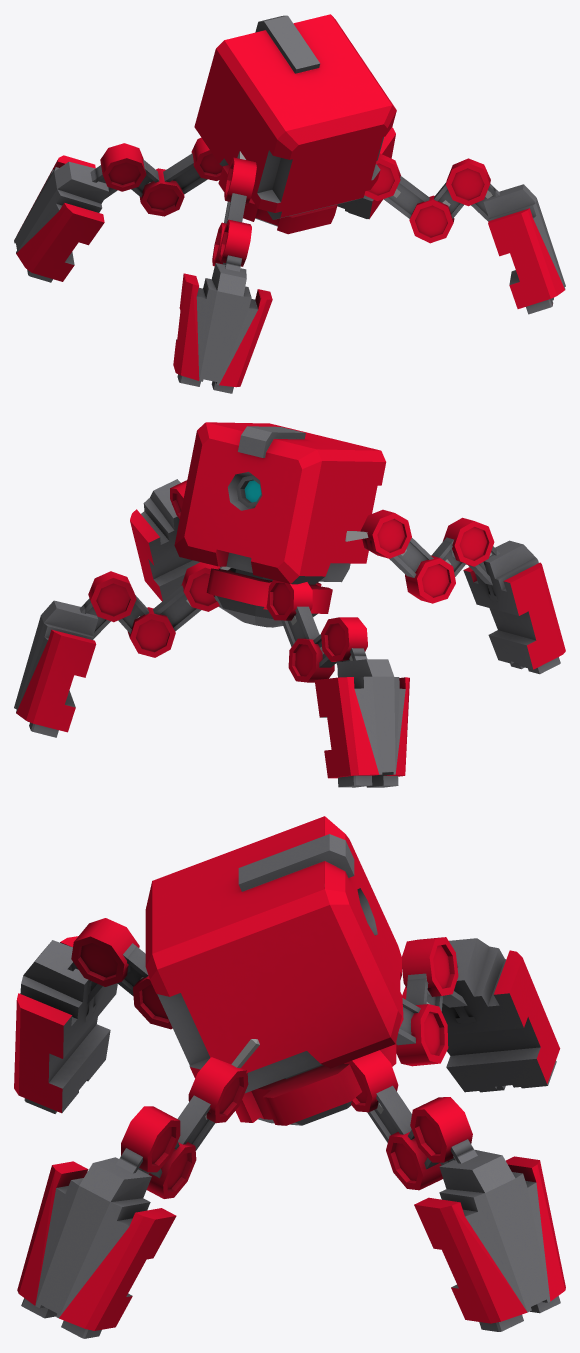
File: Monster1_Die0.obj
3 views of the same model, one above another, from view 1: azimuth 30°, elevation 25°; view 2: azimuth 150°, elevation 25°; view 3: azimuth 270°, elevation 25° (orthographic). The views are drawn at different scales.
Parts seen in each view (by area): view 1: Box006, Object021, Object025, Object017, Object028, Object020, Object019, Object018, Object026, Object027, Object022, Object024 (+1 smaller); view 2: Box006, Object025, Object021, Object013, Object017, Object022, Object026, Object014, Object023, Object016, Object015, Object024 (+2 smaller); view 3: Box006, Object017, Object013, Object025, Object021, Object018, Object024, Object016, Object014, Object020, Object027, Object028 (+4 smaller).
Part boxes in pixels (x1,y1,x2,y2): Box006: (194, 14, 396, 234); Object021: (173, 263, 272, 393); Object025: (14, 155, 108, 282); Object017: (483, 184, 565, 314); Object028: (90, 143, 146, 199); Object020: (446, 158, 499, 221); Object019: (409, 182, 463, 243); Object018: (364, 153, 429, 218); Object026: (163, 137, 222, 194); Object027: (131, 159, 184, 216); Object022: (224, 157, 256, 223); Object024: (219, 219, 251, 271); Box006: (174, 422, 386, 627); Object025: (314, 659, 409, 787); Object021: (463, 540, 565, 674); Object013: (14, 600, 98, 737); Object017: (130, 479, 199, 601); Object022: (360, 509, 433, 577); Object026: (266, 580, 319, 646); Object014: (153, 562, 219, 631); Object023: (405, 537, 465, 603); Object016: (79, 571, 136, 638); Object015: (118, 595, 175, 657); Object024: (442, 517, 499, 585); Box006: (145, 816, 401, 1125); Object017: (17, 1157, 176, 1338); Object013: (414, 1150, 565, 1331); Object025: (402, 938, 560, 1092); Object021: (14, 936, 117, 1113); Object018: (177, 1057, 248, 1150); Object024: (67, 918, 139, 1004); Object016: (410, 1097, 477, 1165); Object014: (344, 1050, 411, 1142); Object020: (116, 1106, 180, 1174); Object027: (396, 973, 448, 1066); Object028: (402, 937, 467, 1007).
Size of the model in its own units: 173 by 117 by 151.
